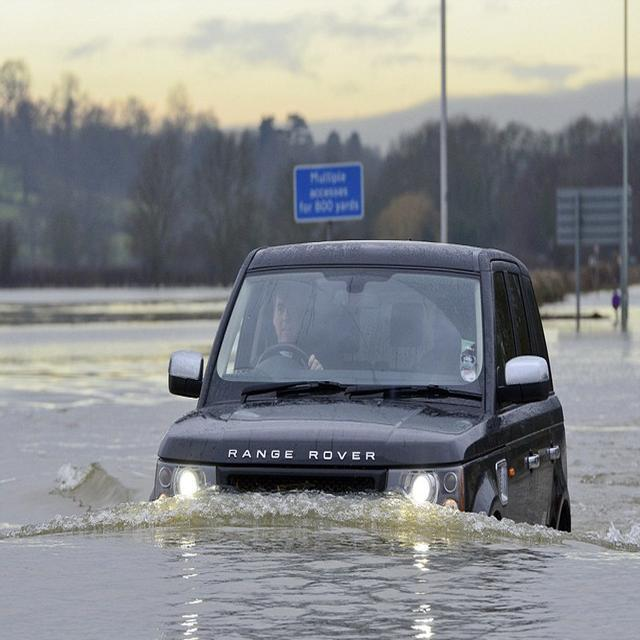Car-RiskLevel3: (151, 232, 578, 538)
